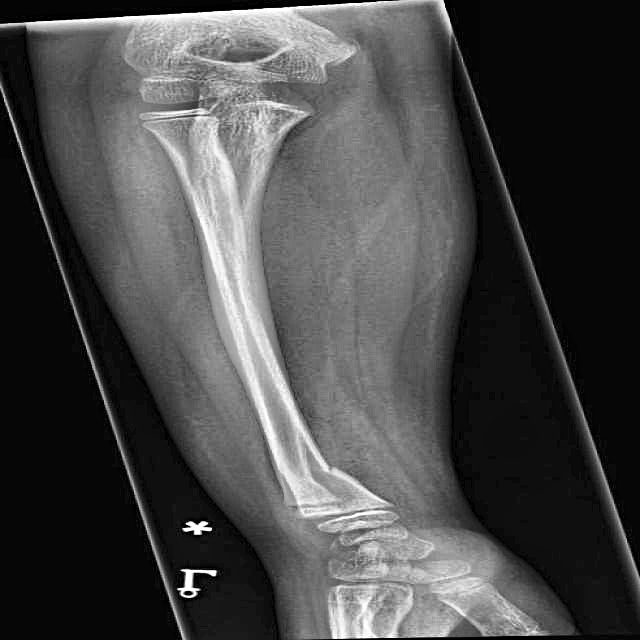Greenstick: (249, 452, 394, 496)
